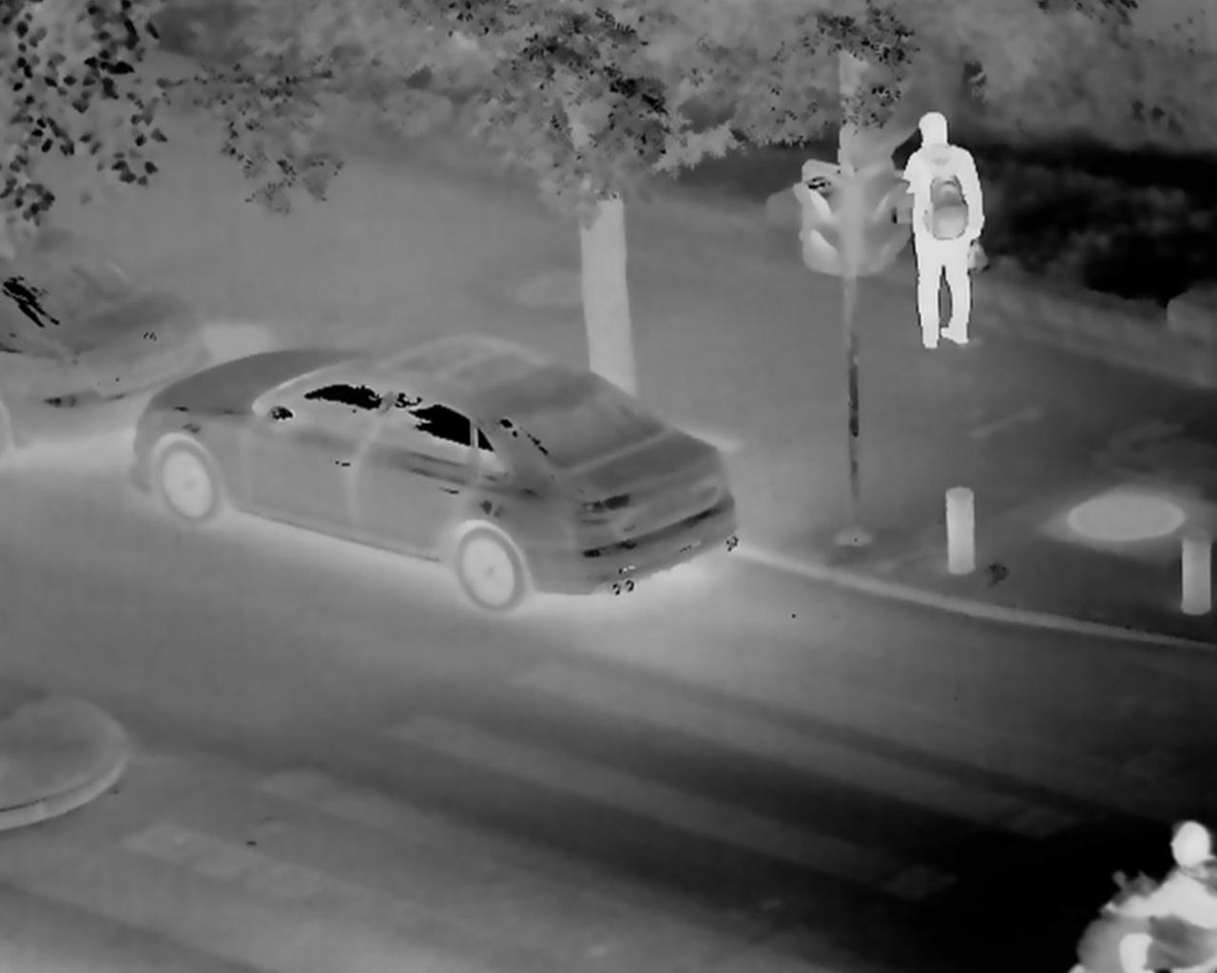person: (891, 108, 988, 354), (1095, 806, 1217, 970)
